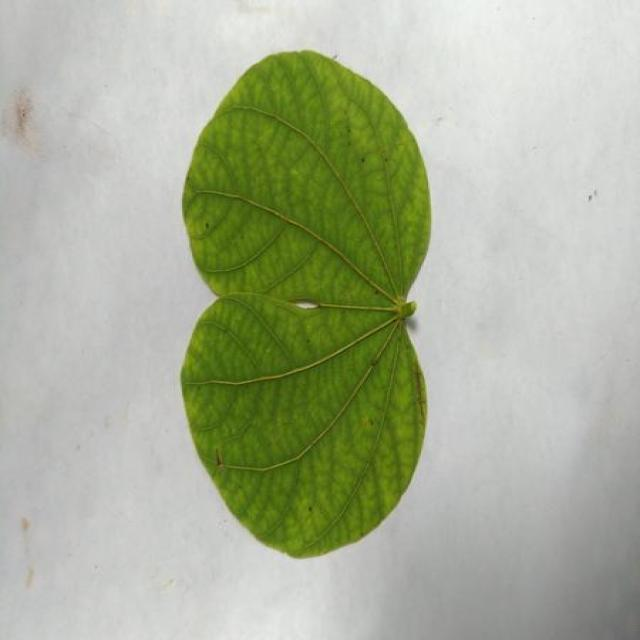Kambajala: (182, 51, 430, 558)
